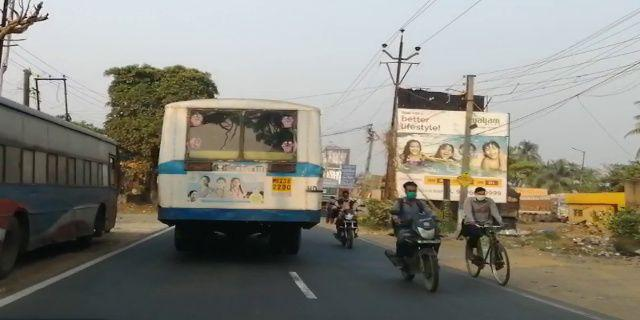Bus: (158, 97, 324, 258), (1, 97, 119, 279)
Cycle: (460, 182, 518, 289)
Motorbike: (384, 180, 446, 296), (328, 188, 364, 252)
